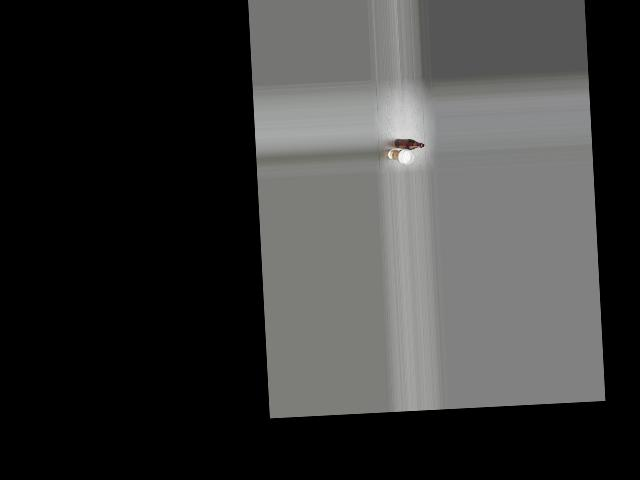beer: (393, 137, 424, 150)
